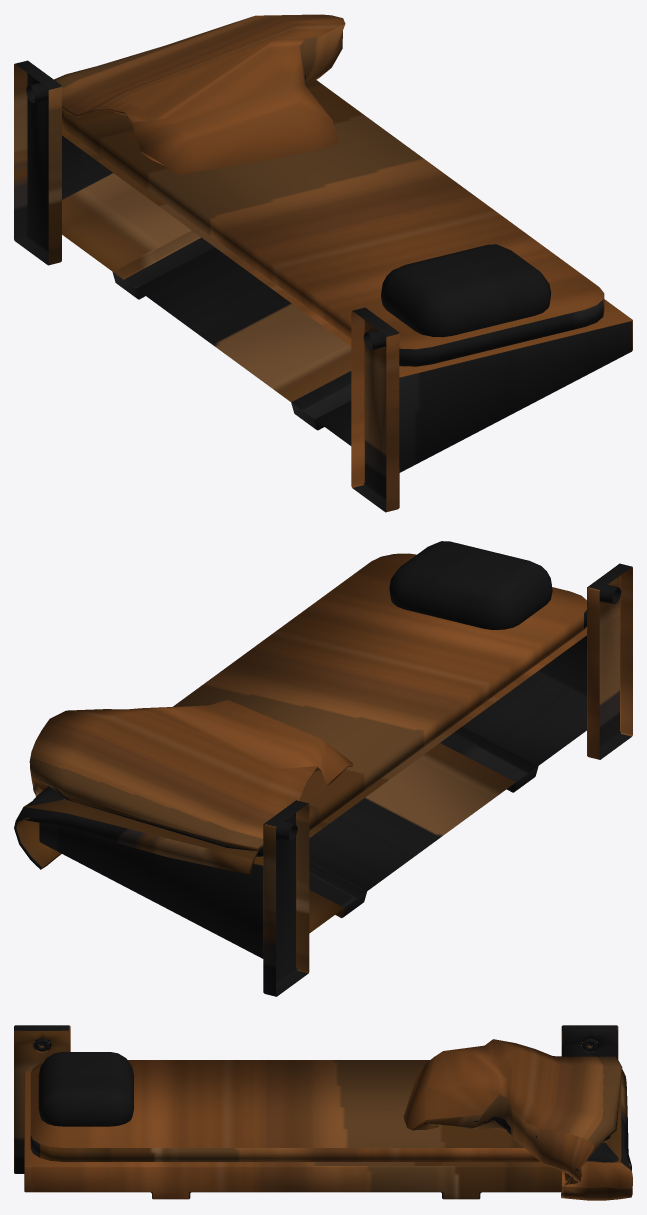
The model's file is Bed3.fbx.
The picture shows the model from 3 angles, top to bottom: view 1: azimuth 30°, elevation 25°; view 2: azimuth 150°, elevation 25°; view 3: azimuth 270°, elevation 25°; orthographic projection. The views are drawn at different scales.
Parts seen in each view (by area): view 1: Bed3; view 2: Bed3; view 3: Bed3.
Part boxes in pixels (x1,y1,x2,y2): Bed3: (14,14,632,512); Bed3: (14,541,632,996); Bed3: (14,1025,632,1200).
Size of the model in its own units: 1.79 by 1.22 by 4.16.
